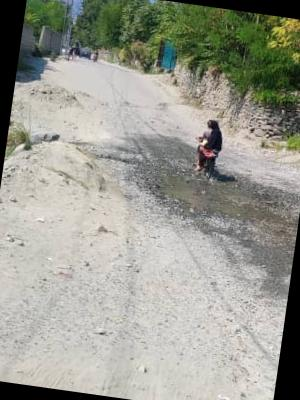sharp_turn: (4, 32, 300, 400)
